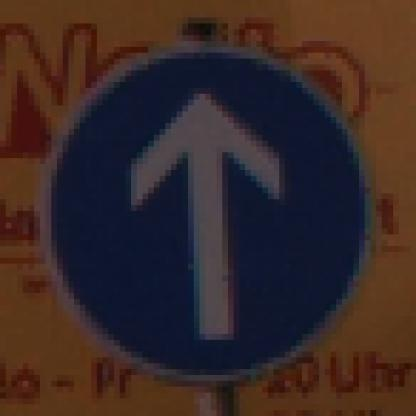AheadOnly: (41, 42, 377, 382)
